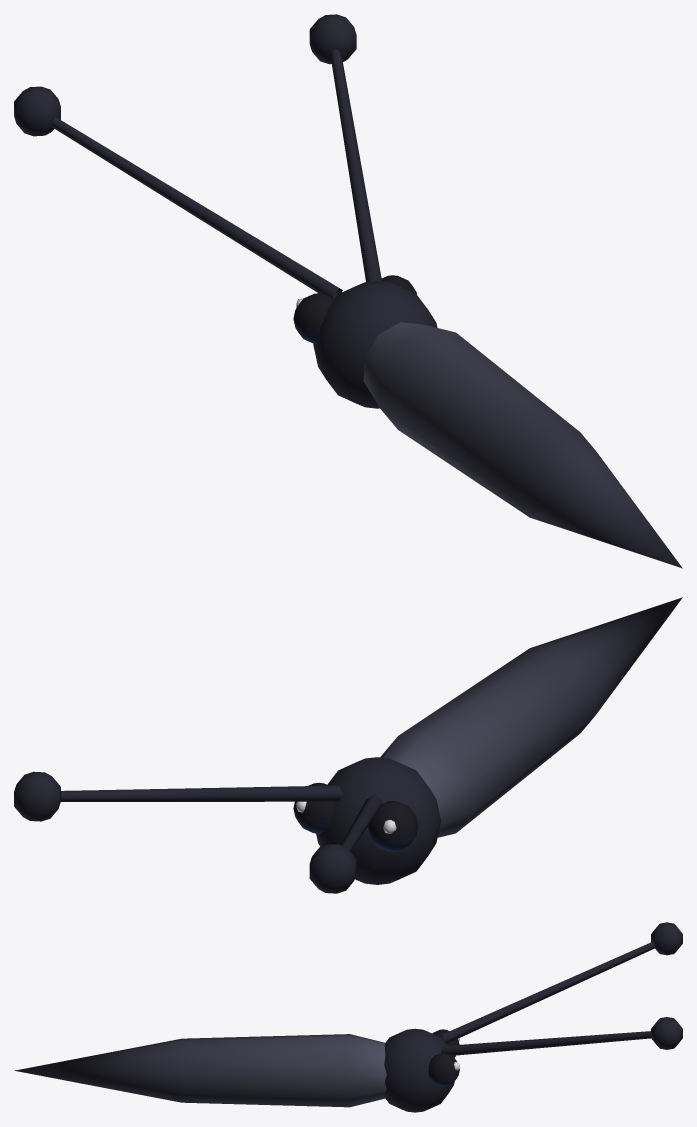
The model's file is Butterfly_Body.fbx.
The picture shows the model from 3 angles, top to bottom: view 1: azimuth 30°, elevation 25°; view 2: azimuth 150°, elevation 25°; view 3: azimuth 270°, elevation 25°; orthographic projection. The views are drawn at different scales.
Visible parts, largest first — view 1: Butterfly_Body; view 2: Butterfly_Body; view 3: Butterfly_Body.
Boxes of the visible parts, box(x1,y1,x2,y2) form: Butterfly_Body: box(14, 14, 682, 568); Butterfly_Body: box(14, 597, 682, 893); Butterfly_Body: box(15, 922, 682, 1112).
Bounding box in the file's own units: 0.2742 × 0.163 × 0.7171.
